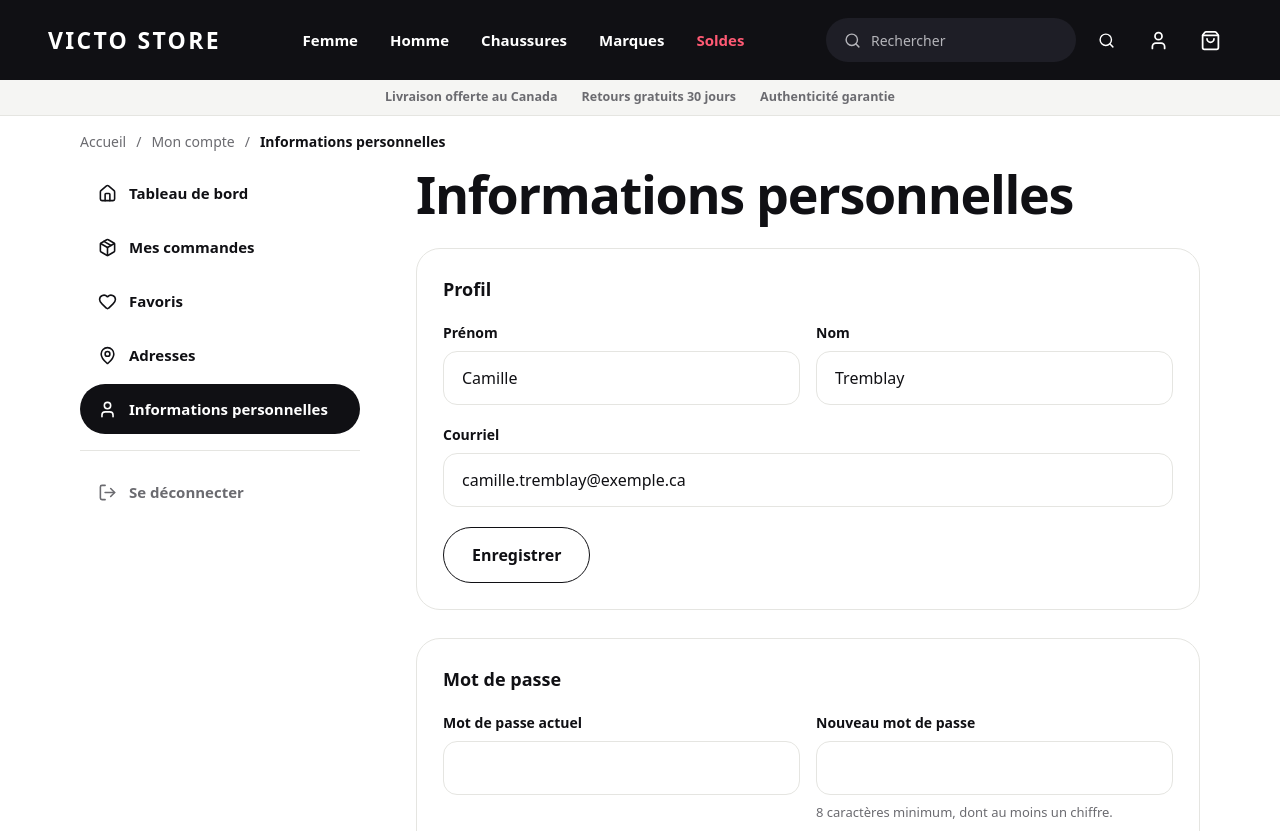
informations personnelles — profil › signale un courriel invalide sans enregistrer
Replace the text in the field labelled "Courriel" with "pas un courriel". click: x=808, y=480
box: [443, 453, 1173, 507]
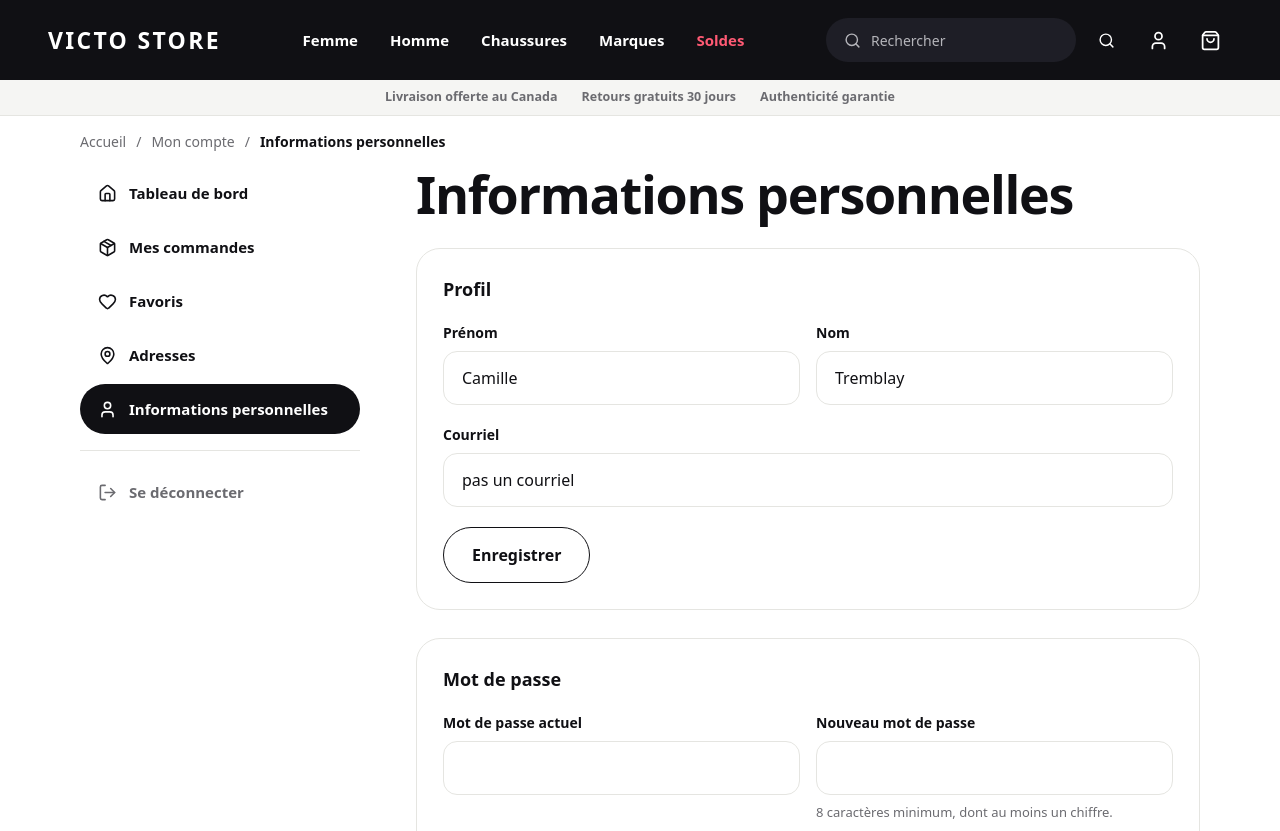
Click the button "Enregistrer". click: x=517, y=555
box: [443, 527, 590, 583]
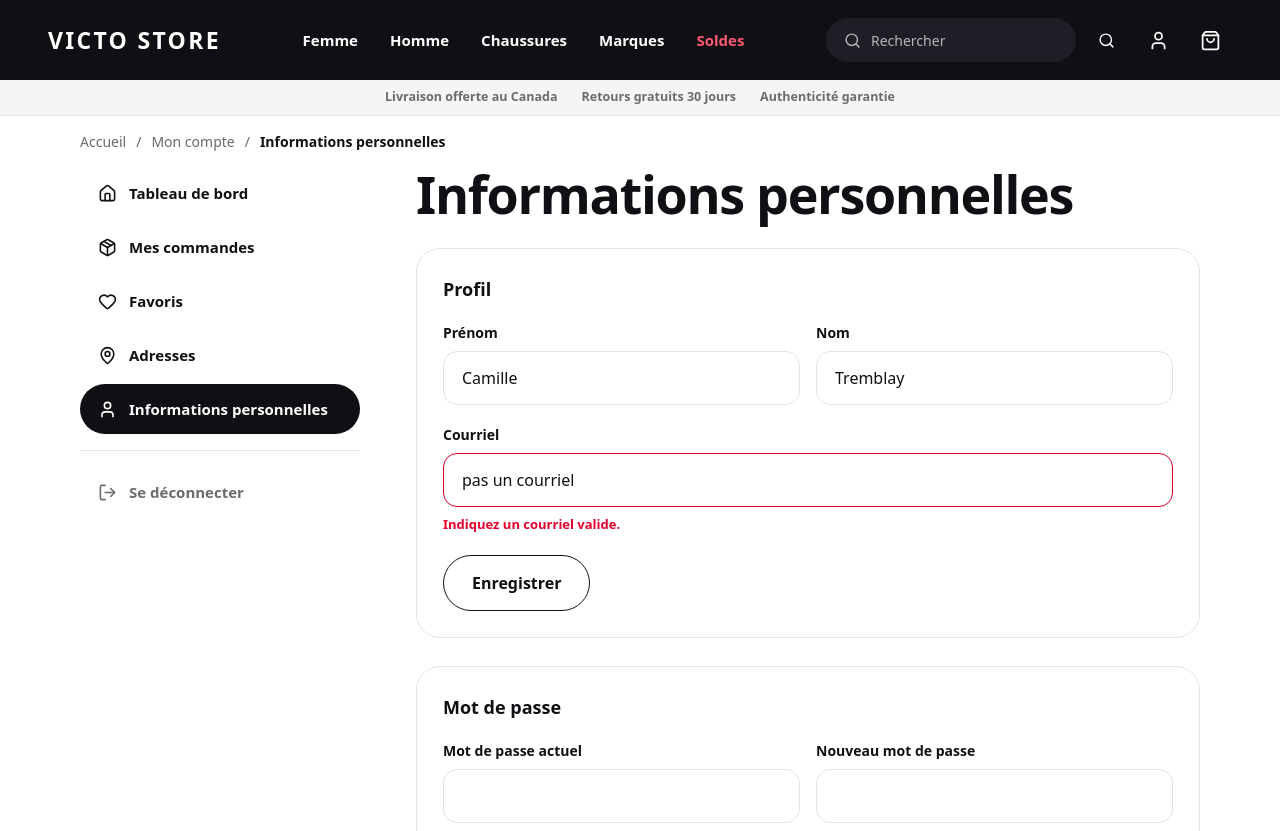
Check: the text "Indiquez un courriel valide." is shown, box [443, 515, 620, 533]
